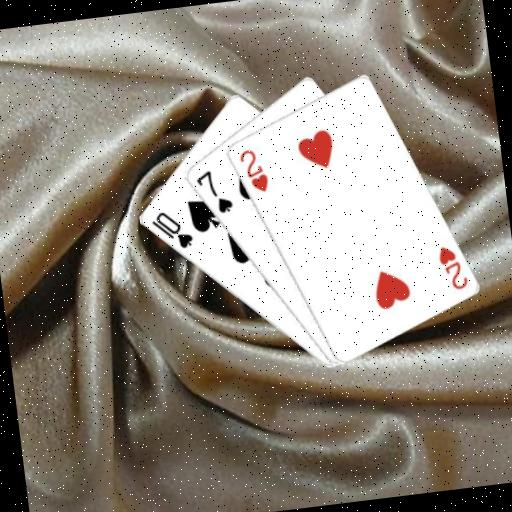10S: (147, 205, 196, 254)
2H: (434, 241, 470, 294), (235, 145, 271, 197)
7S: (191, 165, 235, 218)
